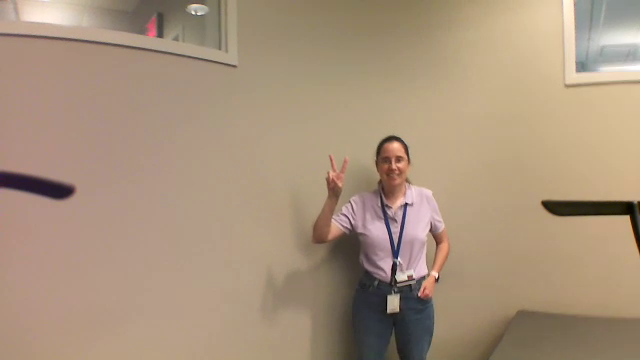peace: (317, 148, 356, 201)
